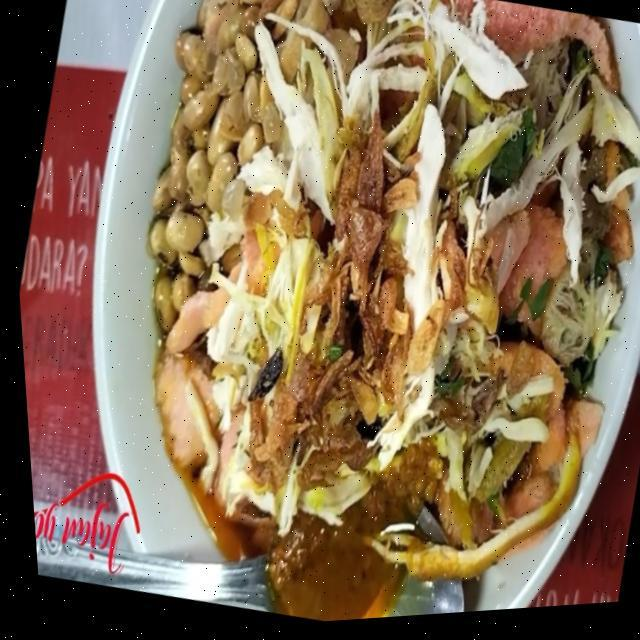bubur ayam: (60, 0, 640, 636)
mangkuk: (0, 0, 640, 640)
